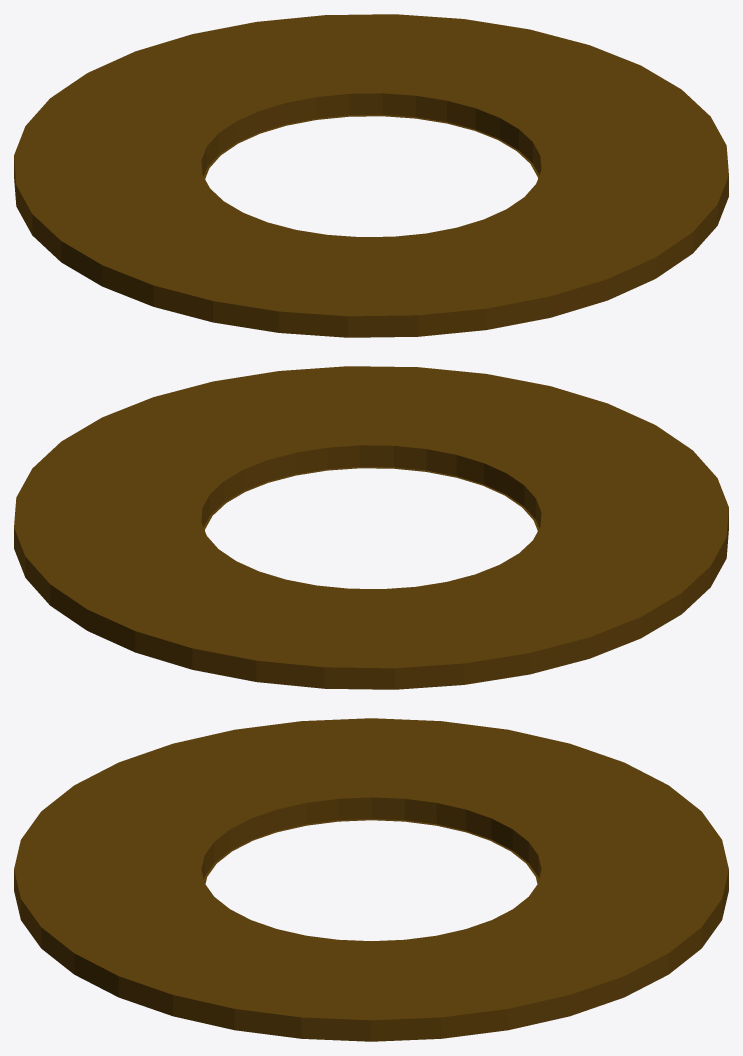
File: table.glb
The picture shows the model from 3 angles, top to bottom: view 1: azimuth 30°, elevation 25°; view 2: azimuth 150°, elevation 25°; view 3: azimuth 270°, elevation 25°; orthographic projection.
Visible parts, largest first — view 1: Cylinder.001; view 2: Cylinder.001; view 3: Cylinder.001.
Part boxes in pixels (<box>): Cylinder.001: <box>14,14,728,337</box>; Cylinder.001: <box>14,366,728,689</box>; Cylinder.001: <box>14,718,728,1041</box>.
Bounding box in the file's own units: 14.29 × 0.5034 × 14.29.
